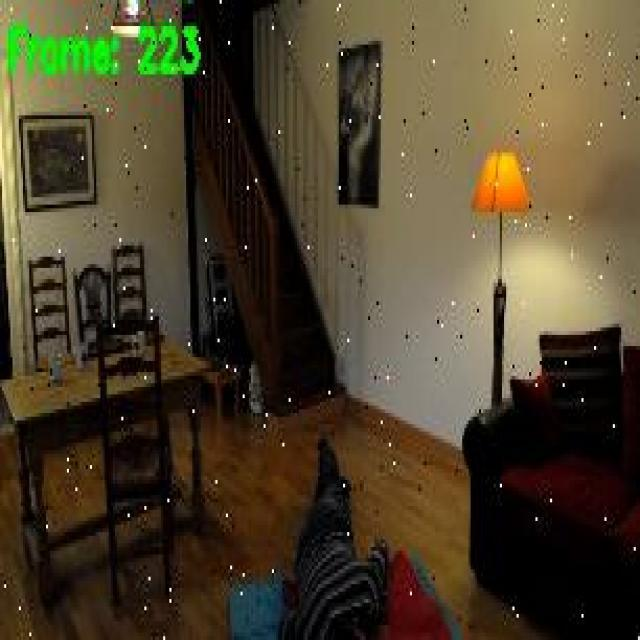fall: (278, 424, 391, 636)
